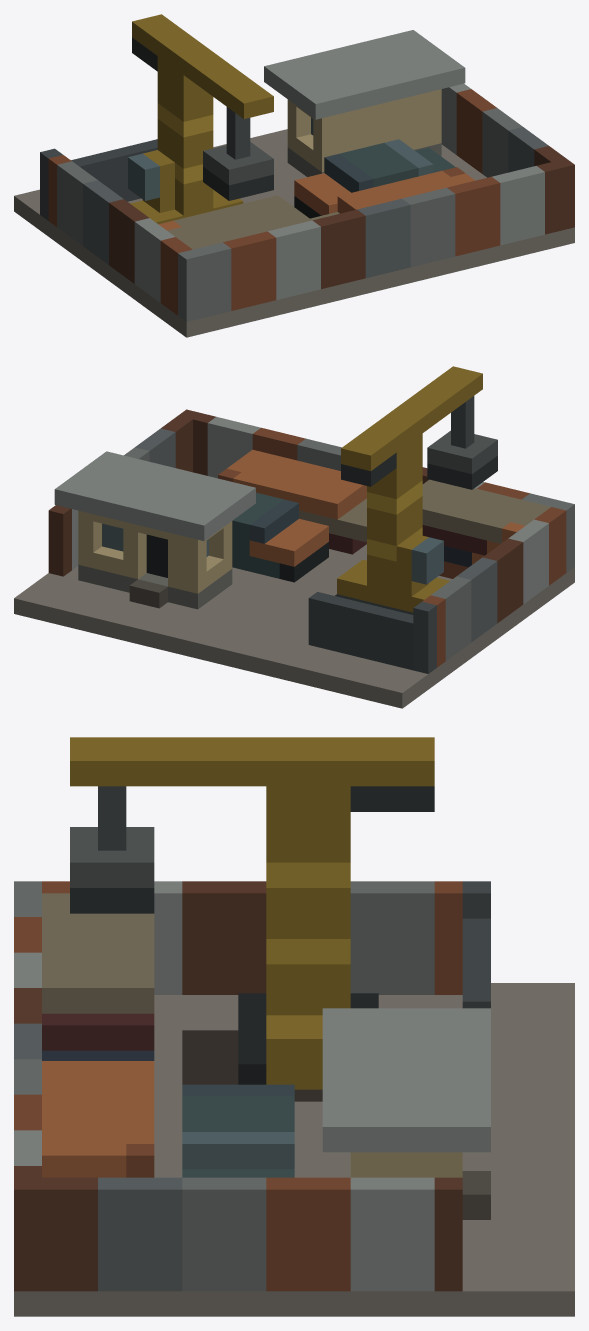
File: Claude_scrapyard_building.glb
The picture shows the model from 3 angles, top to bottom: view 1: azimuth 30°, elevation 25°; view 2: azimuth 150°, elevation 25°; view 3: azimuth 270°, elevation 25°; orthographic projection. The views are drawn at different scales.
Visible parts, largest first — view 1: Claude_scrapyard_building; view 2: Claude_scrapyard_building; view 3: Claude_scrapyard_building.
Part boxes in pixels (x1,y1,x2,y2): Claude_scrapyard_building: (14,14,574,337); Claude_scrapyard_building: (14,366,574,708); Claude_scrapyard_building: (14,737,574,1316).
Size of the model in its own units: 13 by 6.5 by 10.
